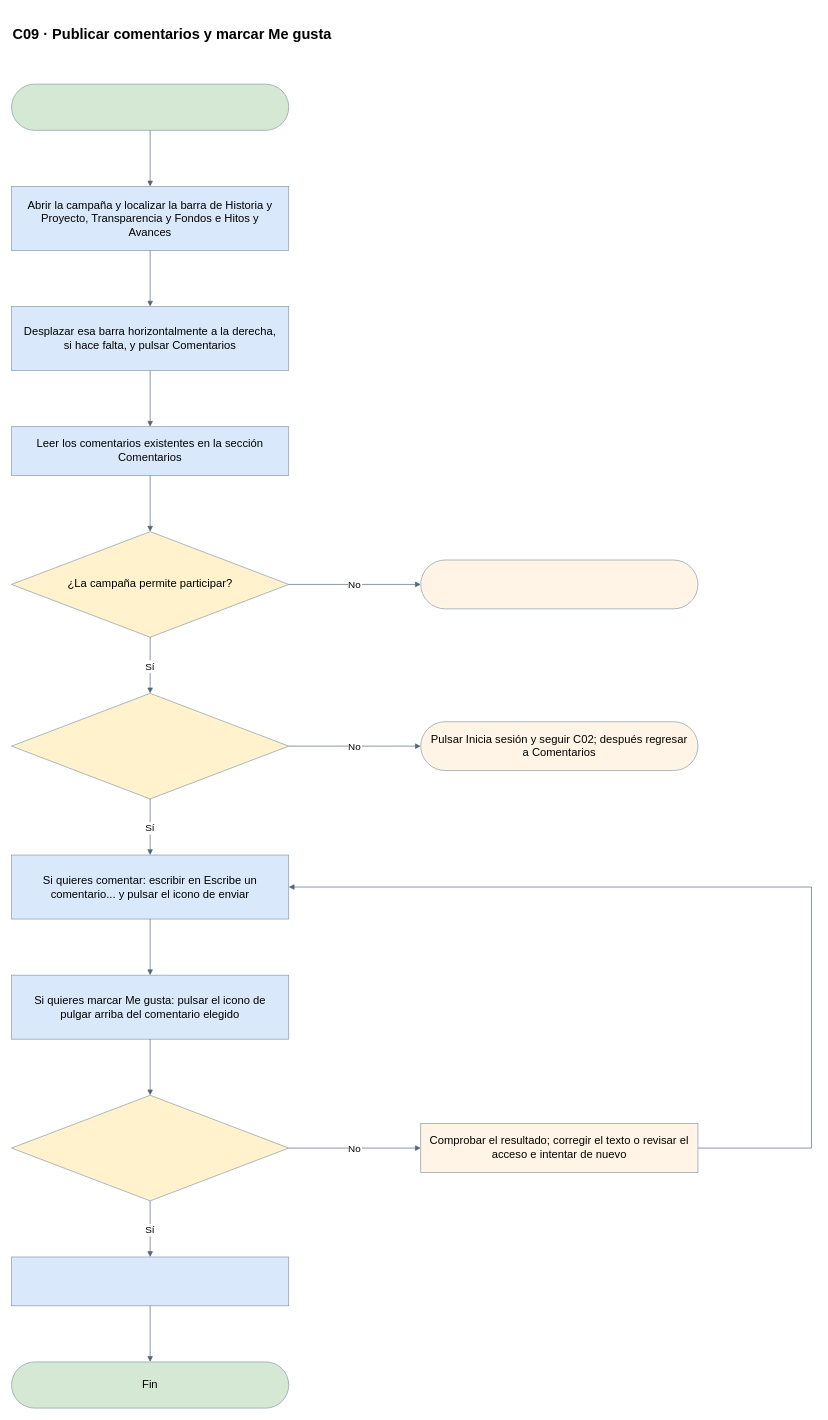
Image size: 828x1420. Some labels were removed from this diagram. Each missing label, with the centre of its shape:
"Inicio" belongs at (x=150, y=106).
"La campaña está cerrada: sus comentarios se conservan solo para consulta" belongs at (x=559, y=584).
"Ver el comentario o el contador actualizado; otro clic alterna el Me gusta" belongs at (x=150, y=1281).
"¿Hay una sesión de donador o emprendedor?" belongs at (x=150, y=746).
"¿Se registró la acción?" belongs at (x=150, y=1148).
